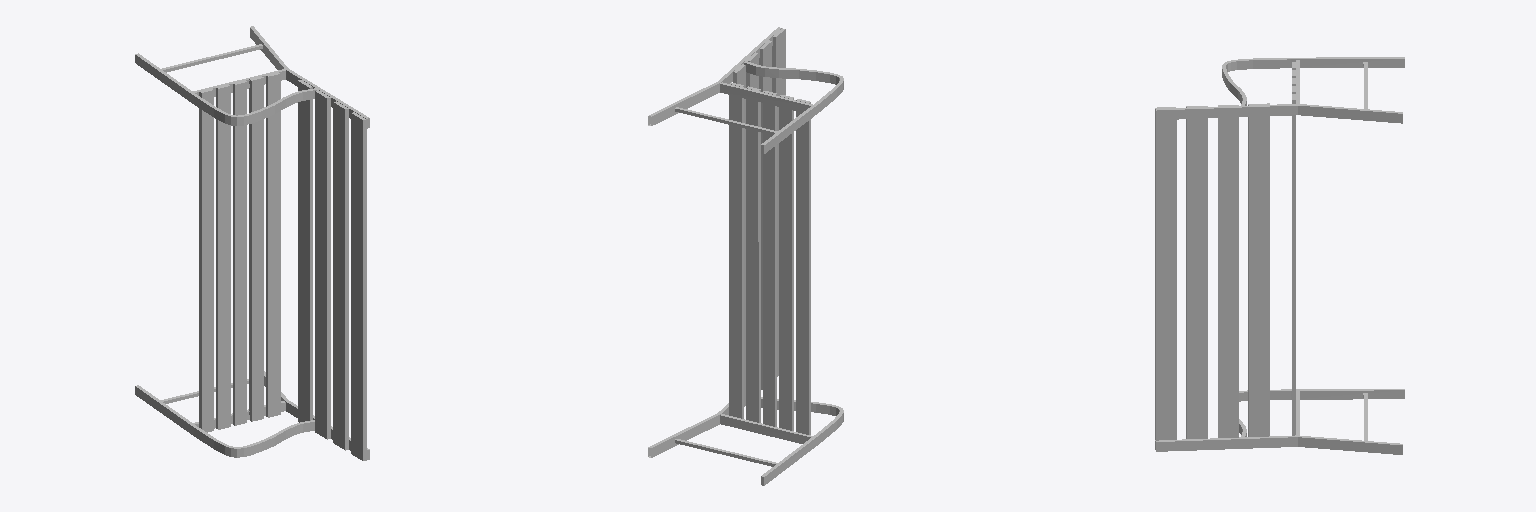
File: Bench_Will.obj
The picture shows the model from 3 angles: view 1: azimuth 30°, elevation 25°; view 2: azimuth 150°, elevation 25°; view 3: azimuth 270°, elevation 25°; orthographic projection.
Parts seen in each view (by area): view 1: Cube.000_Cube.004; view 2: Cube.000_Cube.004; view 3: Cube.000_Cube.004.
Part boxes in pixels (bbox=[...]): Cube.000_Cube.004: bbox=[135, 26, 369, 460]; Cube.000_Cube.004: bbox=[648, 27, 843, 485]; Cube.000_Cube.004: bbox=[1155, 57, 1404, 454].
Bounding box in the file's own units: 106 × 295 × 195.